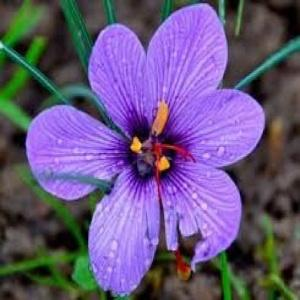Saffron: (27, 5, 267, 296)
